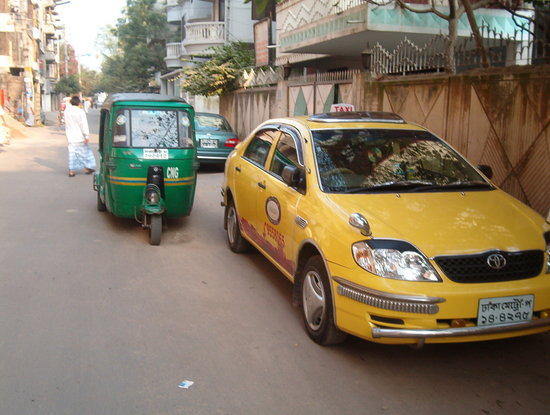car: (222, 103, 550, 347), (196, 112, 240, 164)
cng: (94, 93, 199, 247)
